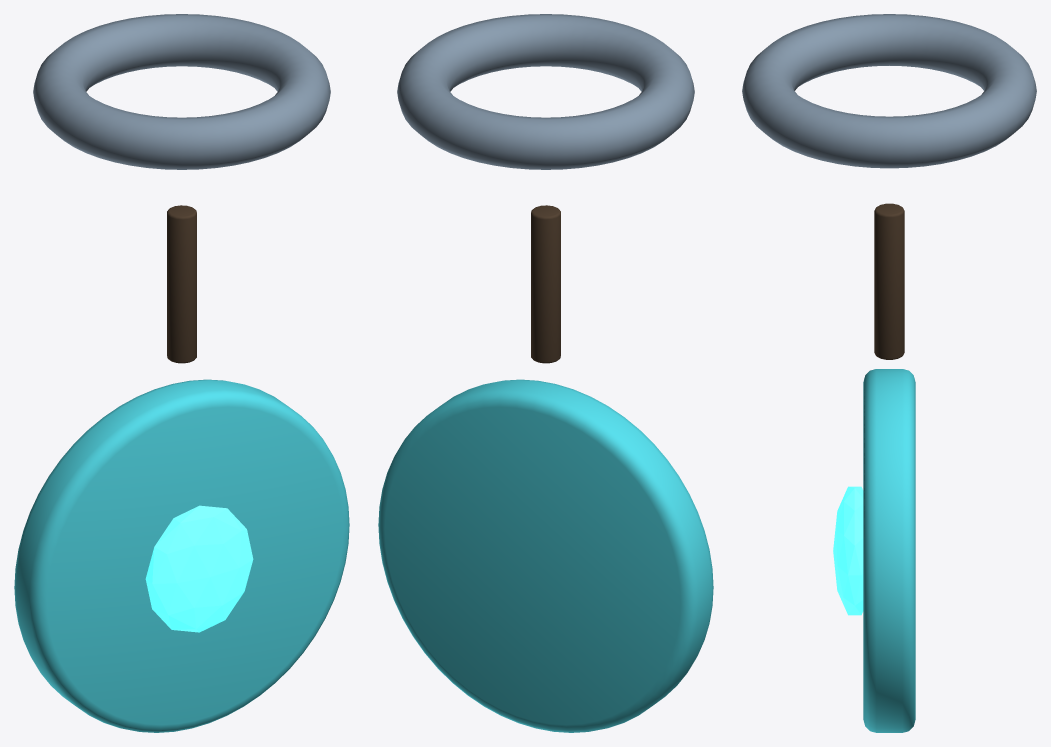
File: earring_v7.glb
3 views of the same model, side by side, from view 1: azimuth 30°, elevation 25°; view 2: azimuth 150°, elevation 25°; view 3: azimuth 270°, elevation 25° (orthographic).
Parts seen in each view (by area): view 1: EARRING_COIN_ACCENT, COIN_HOOK_PRIMARY, COIN_MARK_EMISSIVE, COIN_CHAIN_SECONDARY; view 2: EARRING_COIN_ACCENT, COIN_HOOK_PRIMARY, COIN_CHAIN_SECONDARY; view 3: COIN_HOOK_PRIMARY, EARRING_COIN_ACCENT, COIN_CHAIN_SECONDARY, COIN_MARK_EMISSIVE.
Part boxes in pixels (x1=…): EARRING_COIN_ACCENT: x1=14, y1=379, x2=349, y2=732; COIN_HOOK_PRIMARY: x1=33, y1=14, x2=330, y2=169; COIN_MARK_EMISSIVE: x1=145, y1=505, x2=253, y2=632; COIN_CHAIN_SECONDARY: x1=167, y1=205, x2=196, y2=363; EARRING_COIN_ACCENT: x1=378, y1=379, x2=713, y2=732; COIN_HOOK_PRIMARY: x1=397, y1=14, x2=694, y2=169; COIN_CHAIN_SECONDARY: x1=531, y1=205, x2=560, y2=363; COIN_HOOK_PRIMARY: x1=742, y1=14, x2=1036, y2=168; EARRING_COIN_ACCENT: x1=863, y1=369, x2=915, y2=732; COIN_CHAIN_SECONDARY: x1=874, y1=203, x2=904, y2=359; COIN_MARK_EMISSIVE: x1=833, y1=486, x2=863, y2=615.
Bounding box in the file's own units: 0.84 × 1.65 × 0.68.
